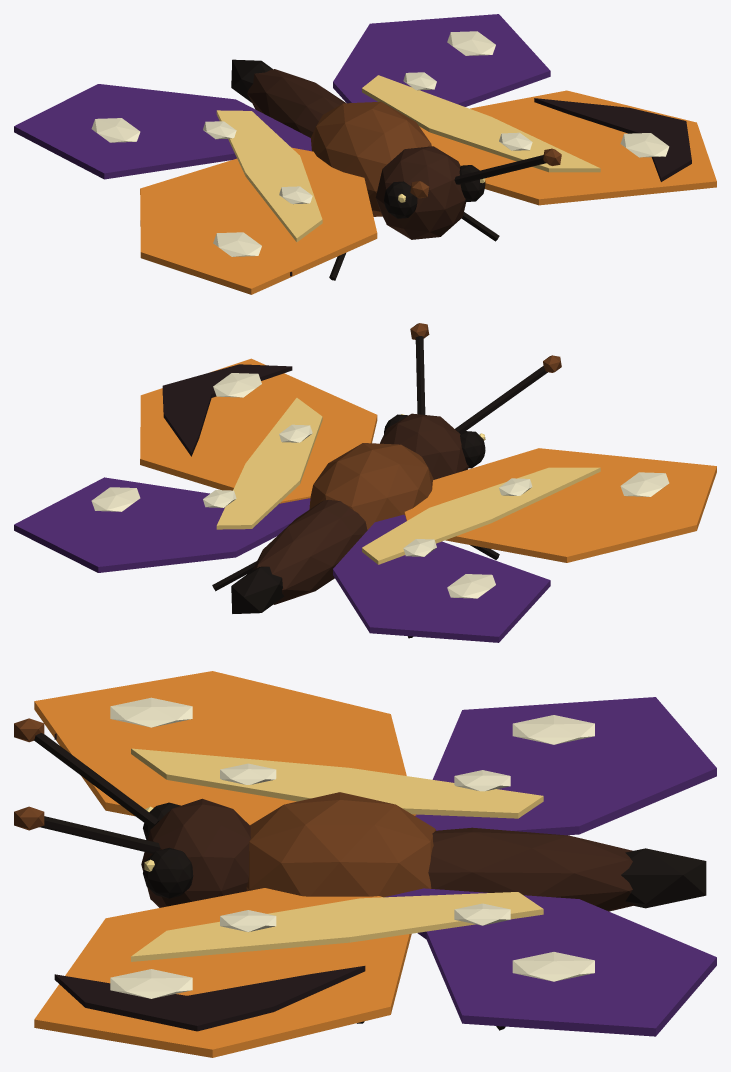
File: Butterfly.glb
3 renders of one model, top to bottom at view 1: azimuth 30°, elevation 25°; view 2: azimuth 150°, elevation 25°; view 3: azimuth 270°, elevation 25°, orthographic. The views are drawn at different scales.
Visible parts, largest first — view 1: Butterfly_WingFore_R, Butterfly_WingHind_R, Butterfly_WingFore_L, Butterfly_WingHind_L, Butterfly_Thorax, Butterfly_WingBand_L, Butterfly_WingBand_R, Butterfly_Head, Butterfly_WingEdge_L, Butterfly_Abdomen, Butterfly_WingSpotOuter_R, Butterfly_WingSpotOuter_L (+6 smaller); view 2: Butterfly_WingFore_R, Butterfly_WingHind_L, Butterfly_WingHind_R, Butterfly_WingFore_L, Butterfly_Thorax, Butterfly_WingBand_R, Butterfly_Abdomen, Butterfly_WingBand_L, Butterfly_WingEdge_L, Butterfly_Head, Butterfly_AbdomenTip, Butterfly_WingSpotOuter_L (+6 smaller); view 3: Butterfly_WingFore_R, Butterfly_WingFore_L, Butterfly_WingHind_L, Butterfly_WingHind_R, Butterfly_Thorax, Butterfly_Abdomen, Butterfly_WingBand_L, Butterfly_WingBand_R, Butterfly_WingEdge_L, Butterfly_Head, Butterfly_AbdomenTip, Butterfly_WingSpotOuter_L (+6 smaller).
Boxes of the visible parts, x1,y1,x2,y2 form: Butterfly_WingFore_R: [140, 147, 377, 294]; Butterfly_WingHind_R: [14, 84, 311, 179]; Butterfly_WingFore_L: [419, 90, 716, 205]; Butterfly_WingHind_L: [333, 14, 550, 106]; Butterfly_Thorax: [310, 101, 431, 216]; Butterfly_WingBand_L: [362, 75, 600, 172]; Butterfly_WingBand_R: [216, 110, 322, 242]; Butterfly_Head: [375, 146, 465, 239]; Butterfly_WingEdge_L: [534, 98, 691, 181]; Butterfly_Abdomen: [247, 69, 345, 137]; Butterfly_WingSpotOuter_R: [91, 118, 261, 256]; Butterfly_WingSpotOuter_L: [447, 31, 669, 157]; Butterfly_WingFore_R: [404, 448, 716, 562]; Butterfly_WingHind_L: [14, 477, 310, 572]; Butterfly_WingHind_R: [333, 514, 550, 642]; Butterfly_WingFore_L: [140, 358, 377, 503]; Butterfly_Thorax: [309, 443, 433, 529]; Butterfly_WingBand_R: [362, 467, 600, 564]; Butterfly_Abdomen: [252, 500, 367, 604]; Butterfly_WingBand_L: [216, 398, 322, 529]; Butterfly_WingEdge_L: [162, 364, 292, 456]; Butterfly_Head: [380, 413, 468, 479]; Butterfly_AbdomenTip: [231, 566, 284, 613]; Butterfly_WingSpotOuter_L: [91, 373, 261, 511]; Butterfly_WingFore_R: [34, 671, 416, 824]; Butterfly_WingFore_L: [34, 888, 411, 1057]; Butterfly_WingHind_L: [385, 888, 716, 1036]; Butterfly_WingHind_R: [415, 697, 716, 835]; Butterfly_Thorax: [246, 792, 435, 897]; Butterfly_Abdomen: [428, 827, 636, 911]; Butterfly_WingBand_L: [131, 892, 543, 961]; Butterfly_WingBand_R: [131, 748, 543, 818]; Butterfly_WingEdge_L: [54, 966, 365, 1031]; Butterfly_Head: [141, 798, 250, 907]; Butterfly_AbdomenTip: [621, 848, 706, 908]; Butterfly_WingSpotOuter_L: [110, 952, 594, 998].
Bounding box in the file's own units: 1.72 × 0.4382 × 1.38.
